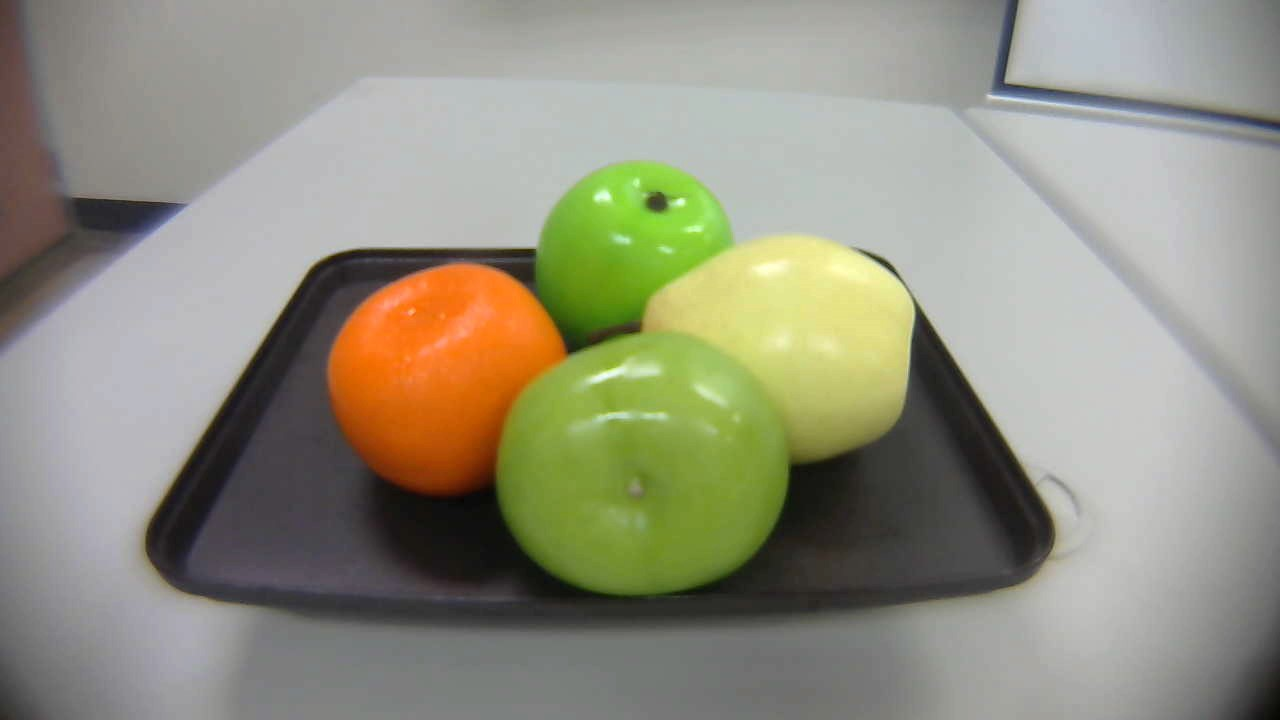green apple: (518, 159, 738, 346)
green pear: (495, 334, 798, 614)
orange: (313, 259, 570, 498)
western pear: (633, 236, 920, 469)
